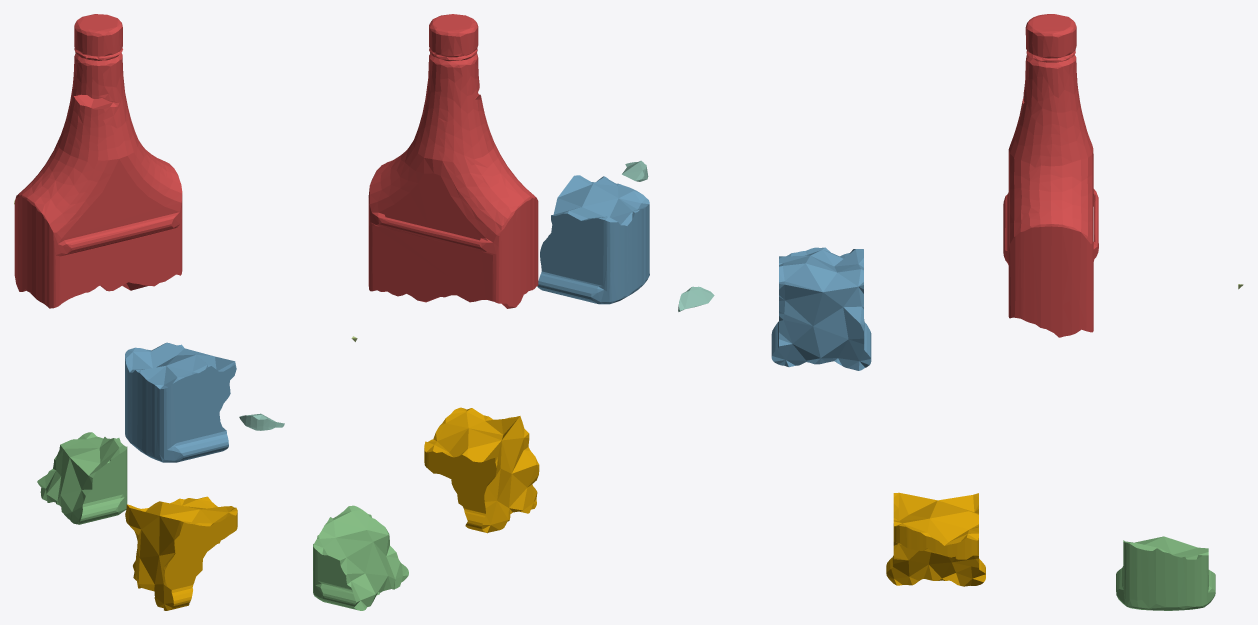
Rendered from fractured_65_6pcs_transformed.glb.
3 renders of one model, left to right at view 1: azimuth 30°, elevation 25°; view 2: azimuth 150°, elevation 25°; view 3: azimuth 270°, elevation 25°, orthographic. The views are drawn at different scales.
Visible parts, largest first — view 1: piece_1.obj, piece_2.obj, piece_0.obj, piece_3.obj, piece_4.obj; view 2: piece_1.obj, piece_2.obj, piece_0.obj, piece_3.obj; view 3: piece_1.obj, piece_2.obj, piece_0.obj, piece_3.obj.
Part boxes in pixels (x1,y1,x2,y2): piece_1.obj: (14, 14, 182, 308); piece_2.obj: (125, 342, 236, 462); piece_0.obj: (125, 496, 237, 610); piece_3.obj: (37, 432, 127, 524); piece_4.obj: (239, 413, 284, 430); piece_1.obj: (368, 14, 538, 308); piece_2.obj: (537, 175, 649, 304); piece_0.obj: (424, 407, 539, 533); piece_3.obj: (313, 505, 408, 610); piece_1.obj: (1003, 14, 1098, 337); piece_2.obj: (771, 247, 871, 370); piece_0.obj: (886, 492, 985, 586); piece_3.obj: (1116, 536, 1215, 610).
Size of the model in its own units: 0.4503 by 1.6 by 1.48.
